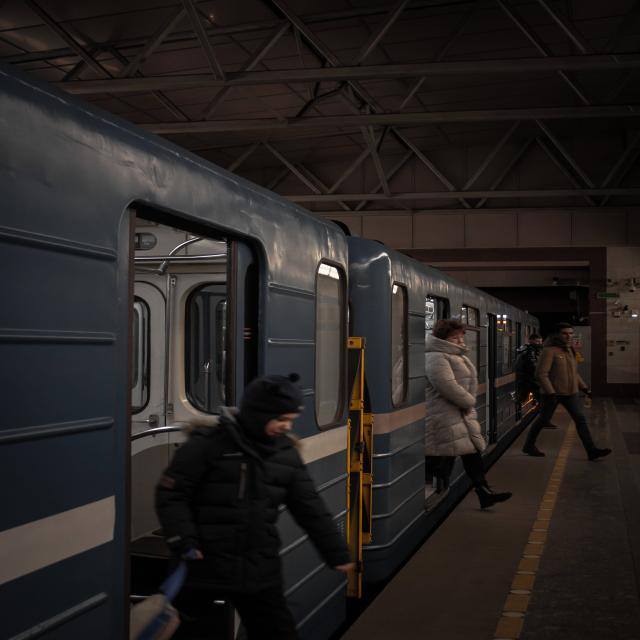adult: (154, 372, 360, 640), (427, 323, 513, 507), (522, 324, 612, 458), (515, 333, 545, 423)
